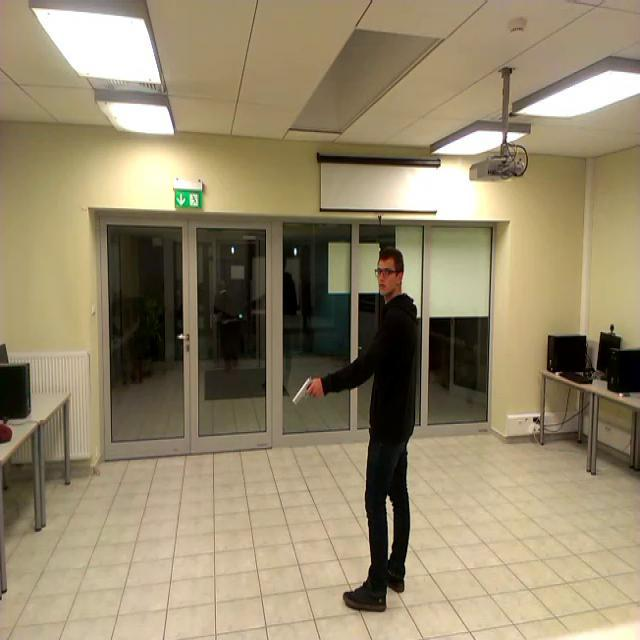Gun: (293, 375, 319, 404)
